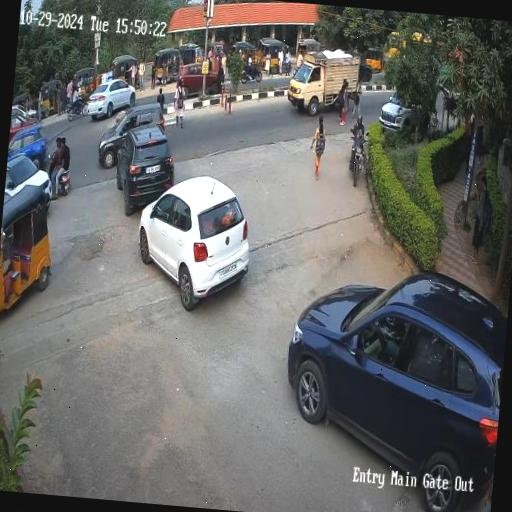helmet: (347, 106, 368, 136)
triple riding: (40, 127, 82, 197)
